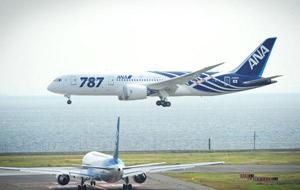airplane: (46, 34, 289, 107), (10, 116, 227, 190)
